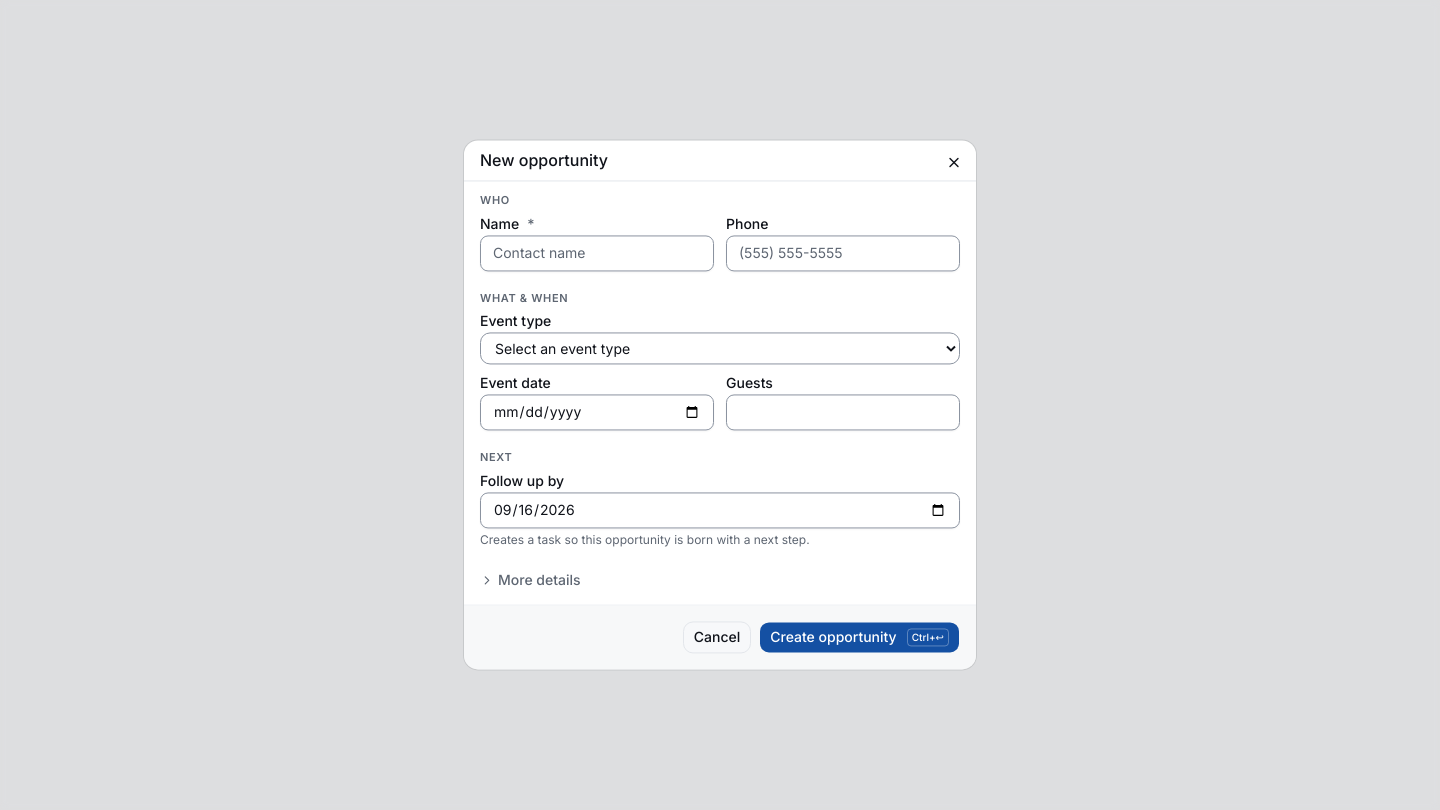
Test case: NewEventTypePopover (inline create-in-flow) › create › stays quiet when the created profile matches the submitted policy exactly
Select "+ New event type…" in the dropdown labelled "Event type" at (720, 349), box [480, 333, 960, 365]
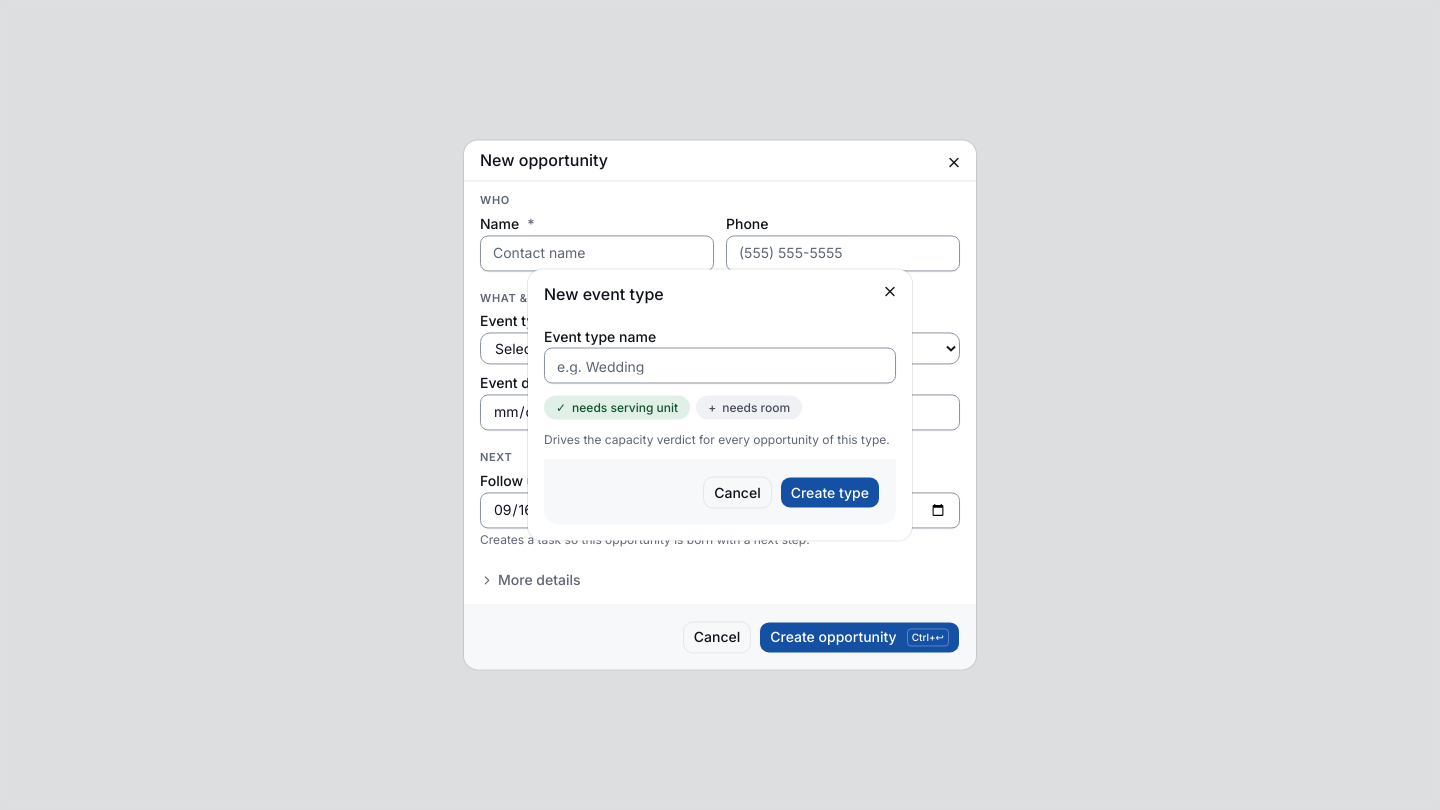
Type "Quinceañera" into the field labelled "Event type name" at (720, 366), box [544, 348, 896, 384]
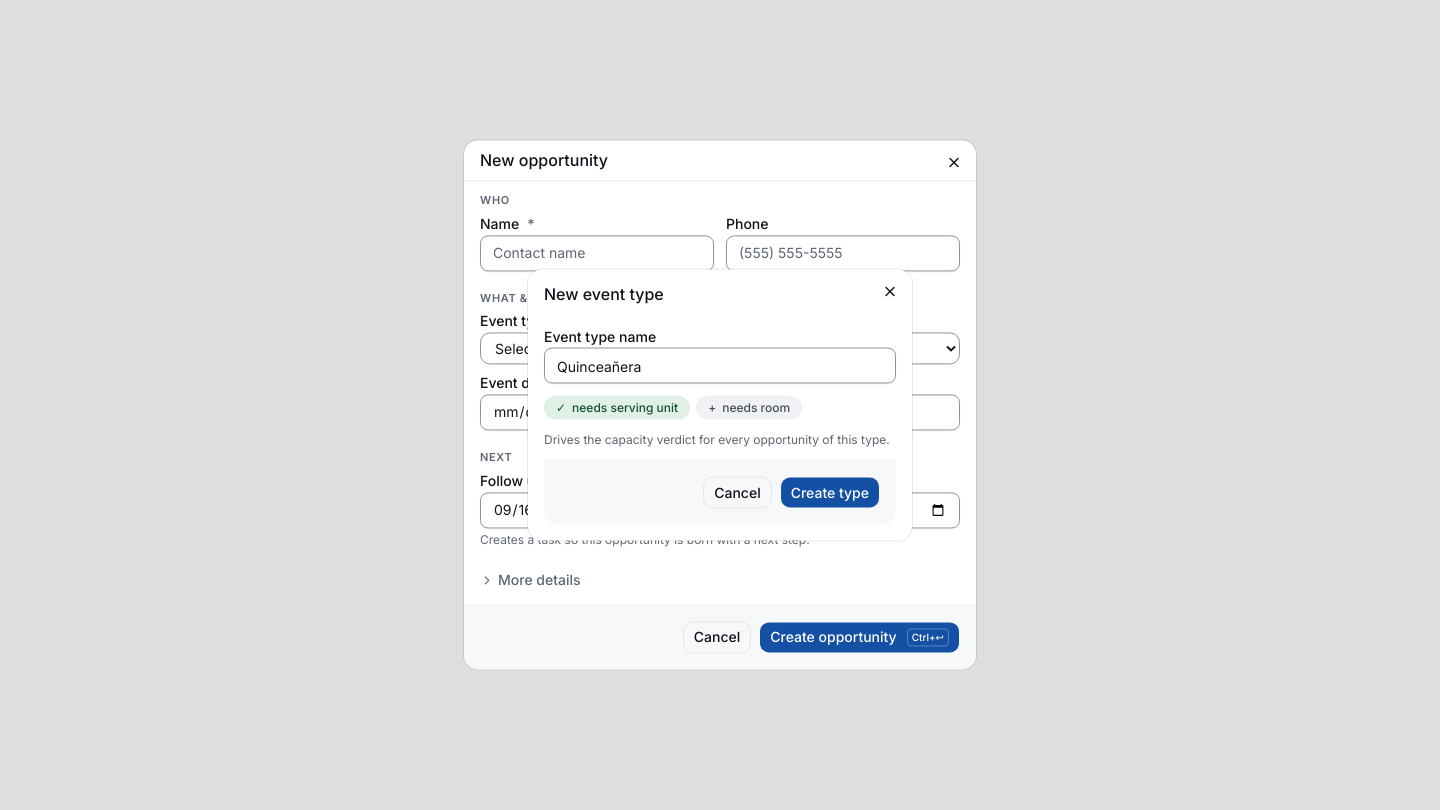
Click the button "Create type" at (830, 492), box [780, 476, 880, 508]
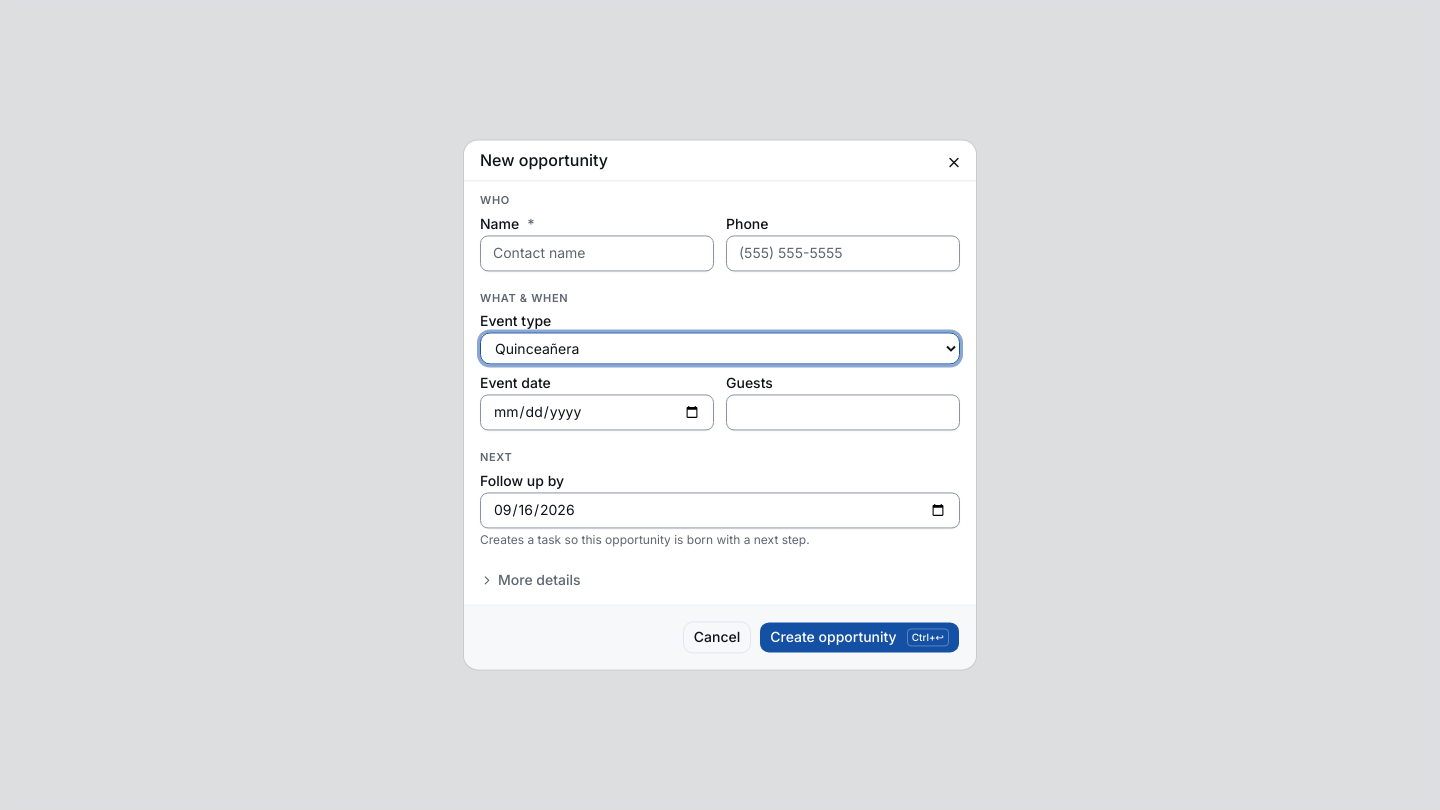
Check: the heading "New event type" is gone
